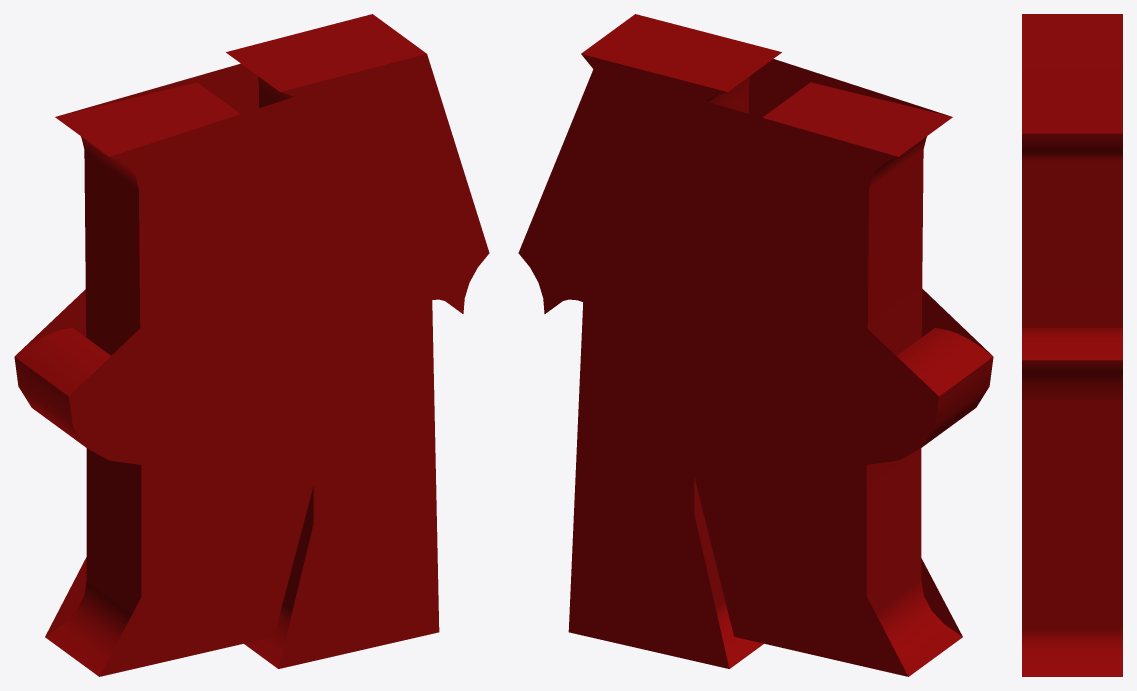
3 views of the same model, side by side, from view 1: azimuth 30°, elevation 25°; view 2: azimuth 150°, elevation 25°; view 3: azimuth 270°, elevation 25° (orthographic). The views are drawn at different scales.
Visible parts, largest first — view 1: polySurface143; view 2: polySurface143; view 3: polySurface143.
Part boxes in pixels (left/top/right/bottom): polySurface143: left=14, top=14, right=489, bottom=676; polySurface143: left=518, top=14, right=993, bottom=676; polySurface143: left=1022, top=14, right=1122, bottom=676.
Size of the model in its own units: 3.15 by 4.16 by 0.7068.
